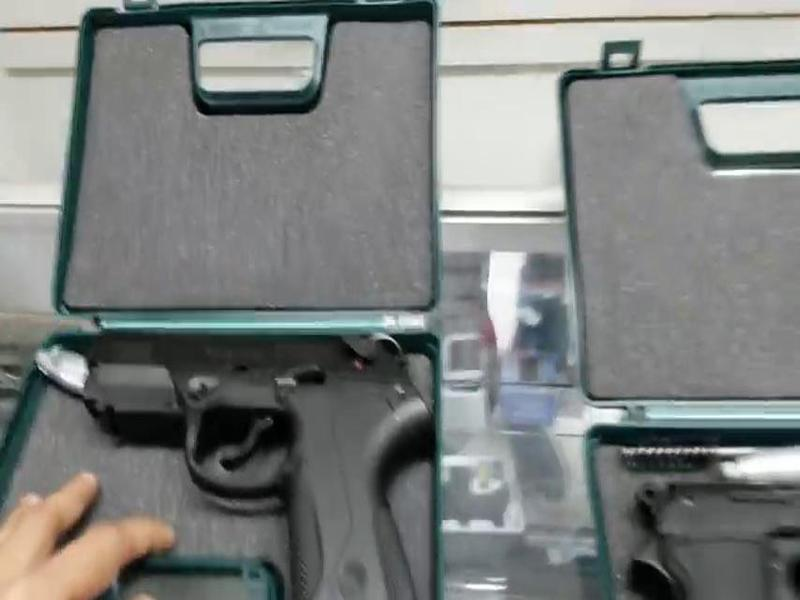Pistola: (69, 316, 426, 600)
